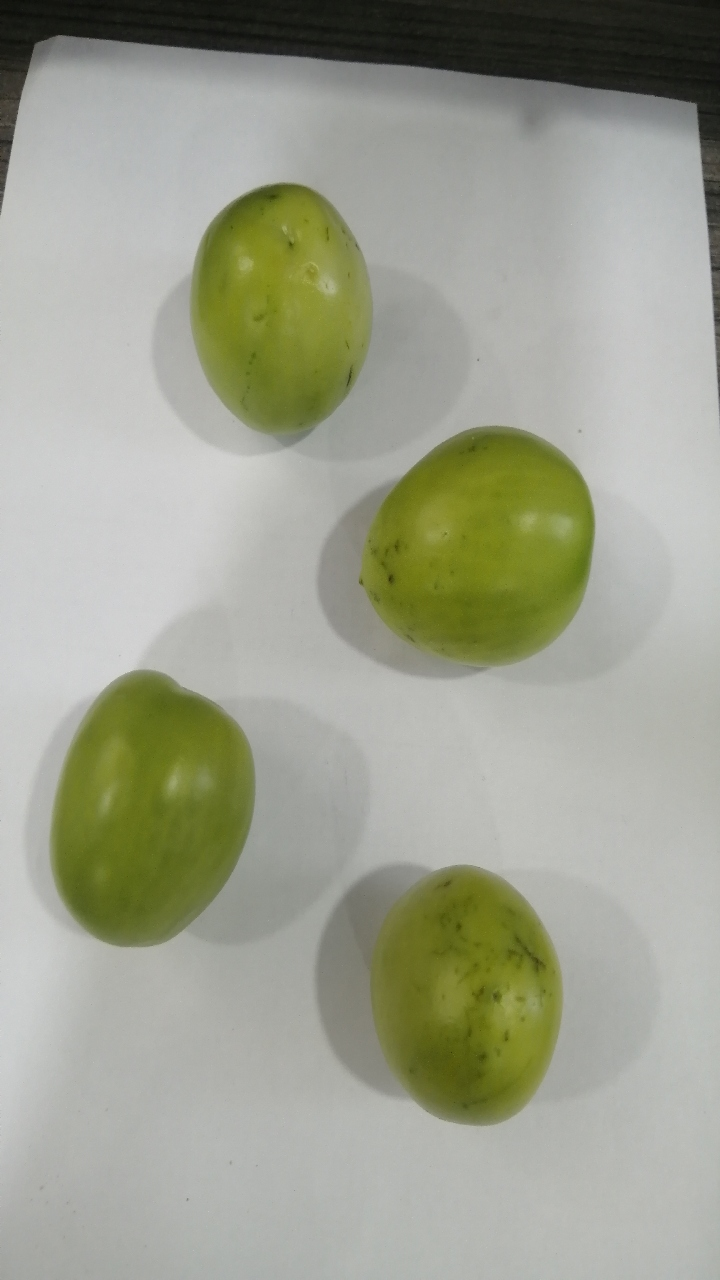tomateVerde: (24, 631, 278, 965), (340, 811, 586, 1148), (338, 399, 617, 682), (172, 149, 391, 465)
